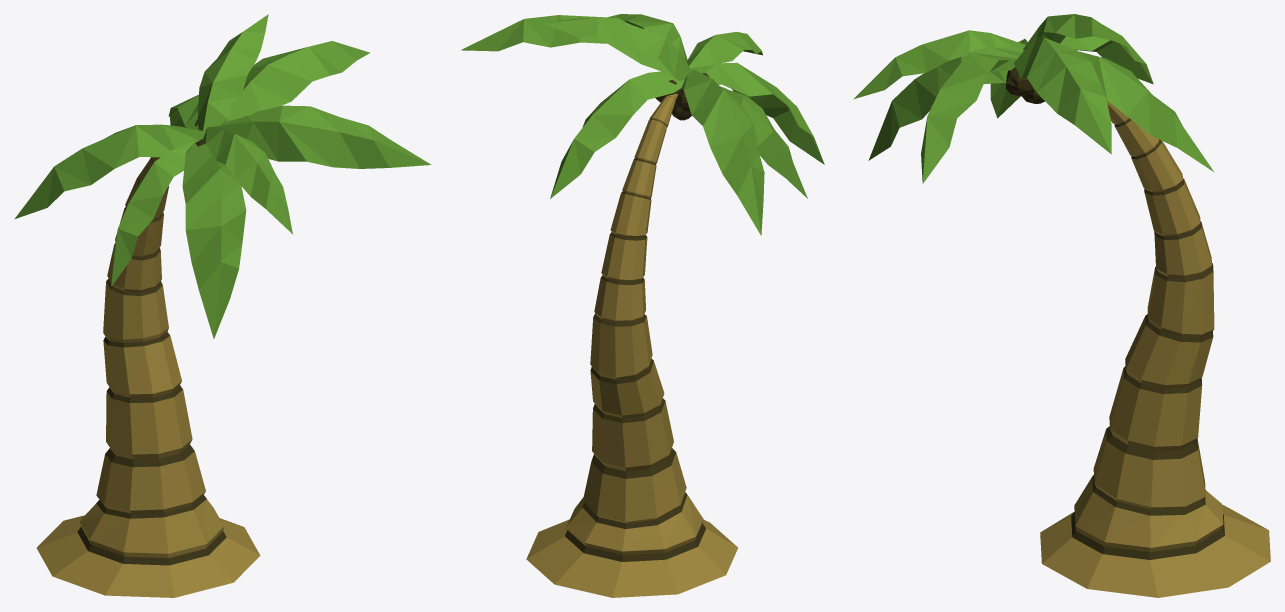
File: palm.glb
The picture shows the model from 3 angles, left to right: view 1: azimuth 30°, elevation 25°; view 2: azimuth 150°, elevation 25°; view 3: azimuth 270°, elevation 25°; orthographic projection. The views are drawn at different scales.
Visible parts, largest first — view 1: model; view 2: model; view 3: model.
Part boxes in pixels (bbox=[...]): model: bbox=[14, 14, 431, 597]; model: bbox=[461, 14, 824, 597]; model: bbox=[853, 14, 1270, 597].
Bounding box in the file's own units: 828 × 1237 × 831.
